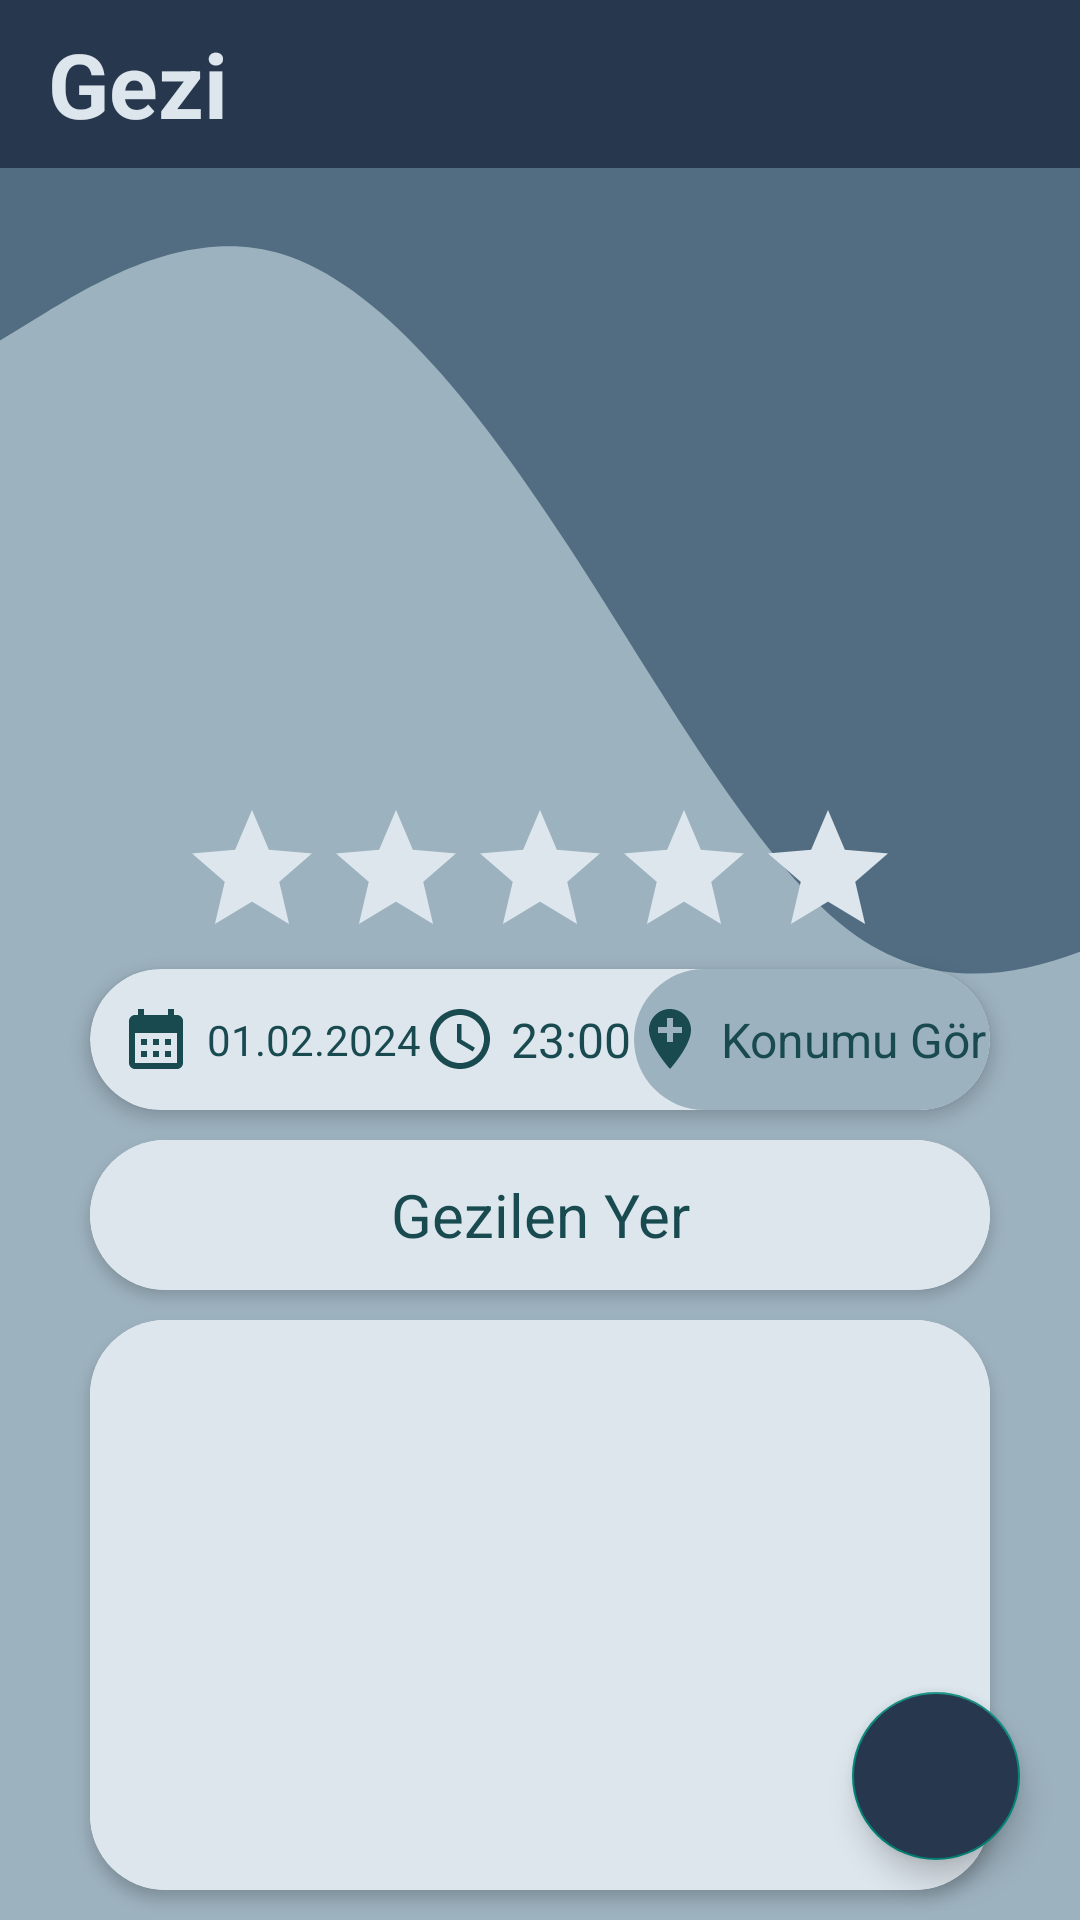

Screen size 1080*1920. Icon name, then its center in pixels as [x,y]:
access time: [460,1039]
add location: [670,1039]
takvim: [156,1039]
